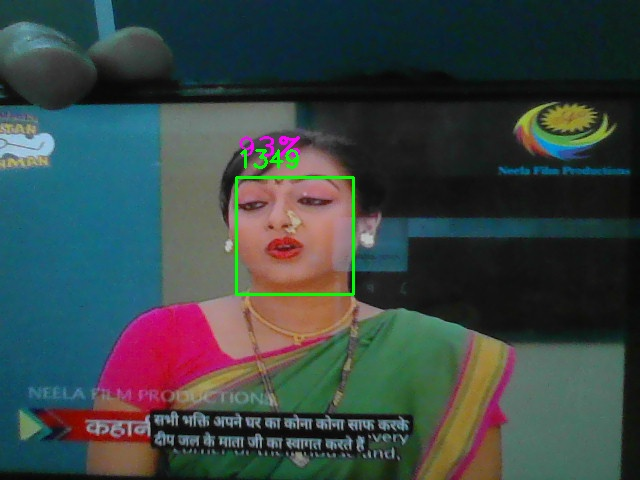fake: (236, 177, 354, 295)
